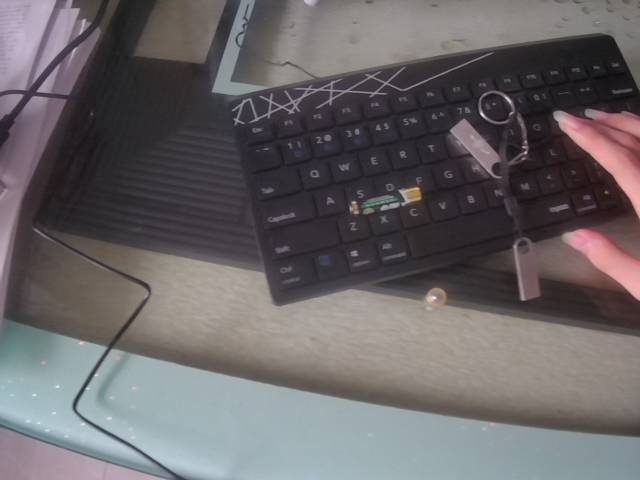U-disk: (443, 102, 535, 180), (503, 222, 548, 306)
battery: (342, 187, 427, 217), (415, 282, 453, 322)
